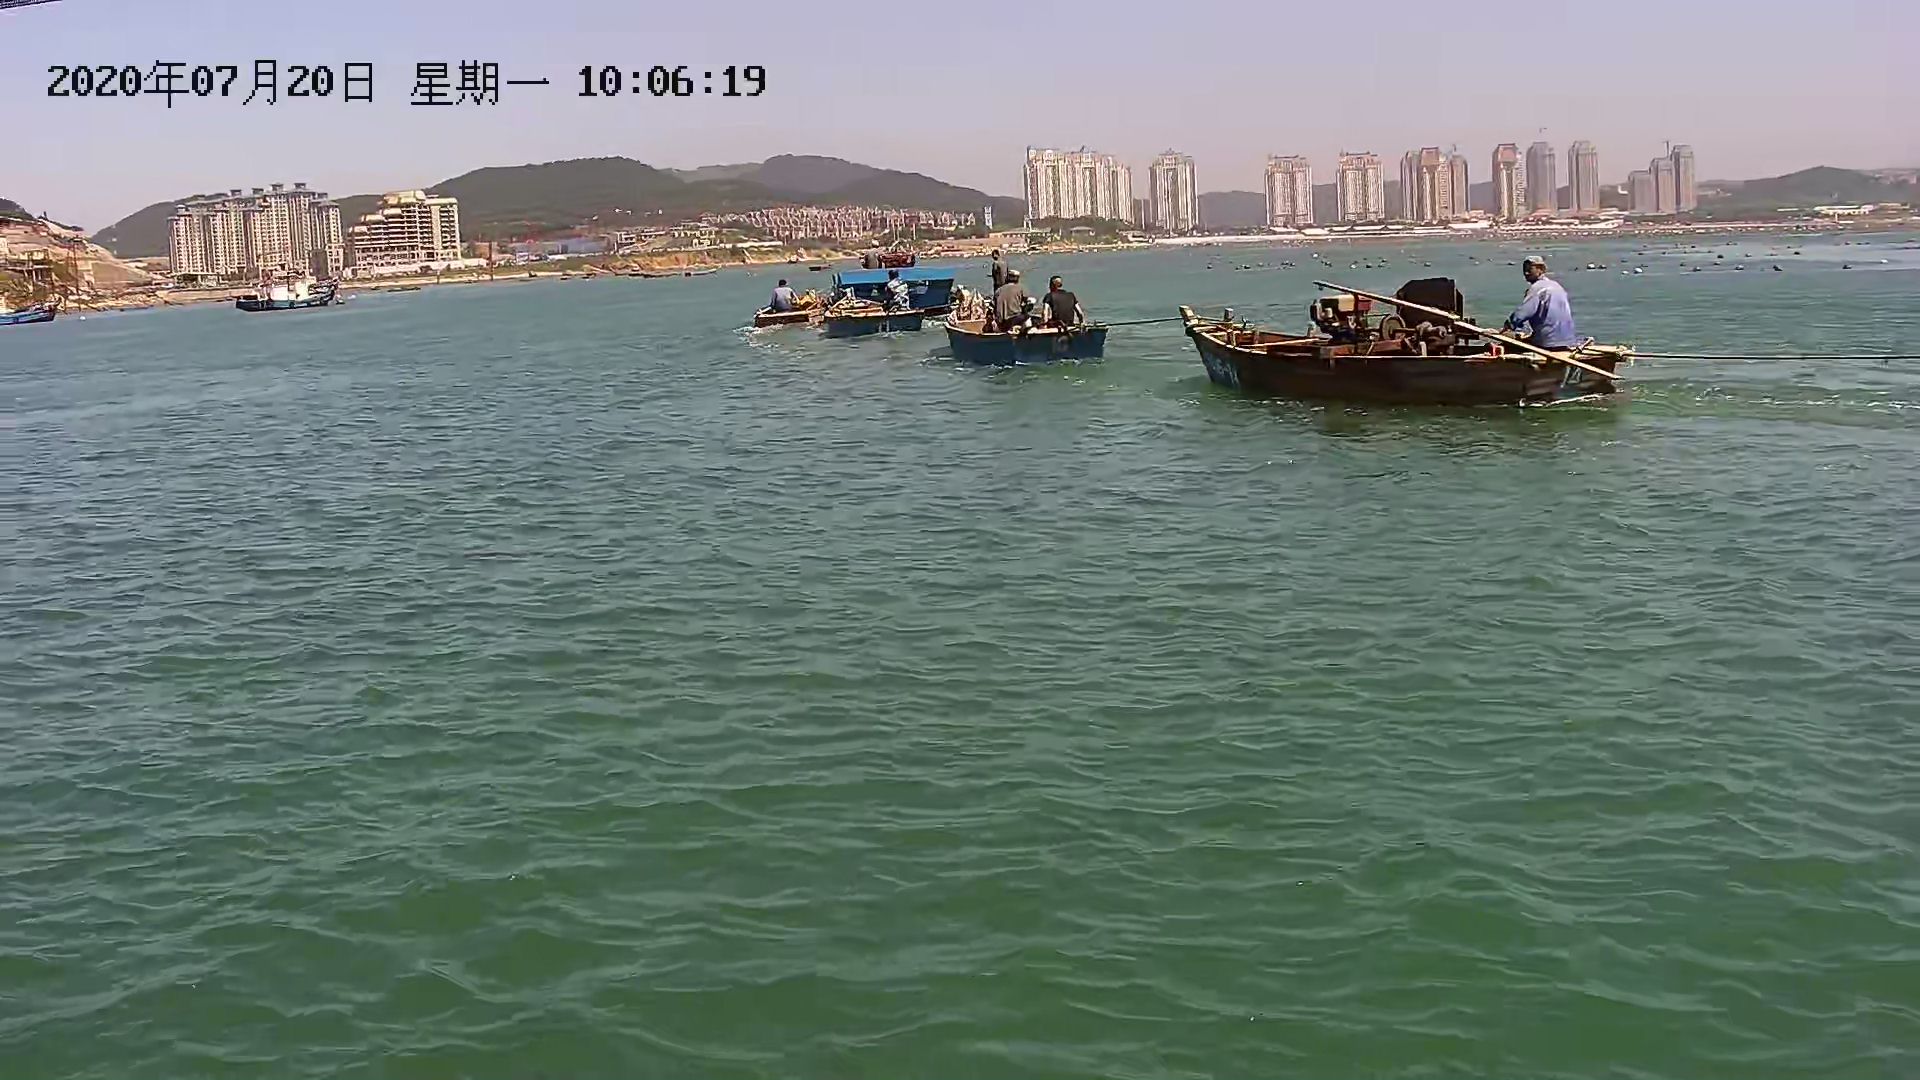boat: (1163, 271, 1646, 415), (935, 284, 1109, 351), (820, 286, 933, 349), (755, 264, 837, 345), (225, 275, 344, 312), (1, 298, 64, 325)
person: (1524, 247, 1592, 362), (1038, 273, 1100, 334), (988, 265, 1038, 323), (881, 271, 929, 315), (863, 239, 931, 267), (883, 265, 918, 314), (770, 277, 807, 317), (992, 245, 1020, 295)
